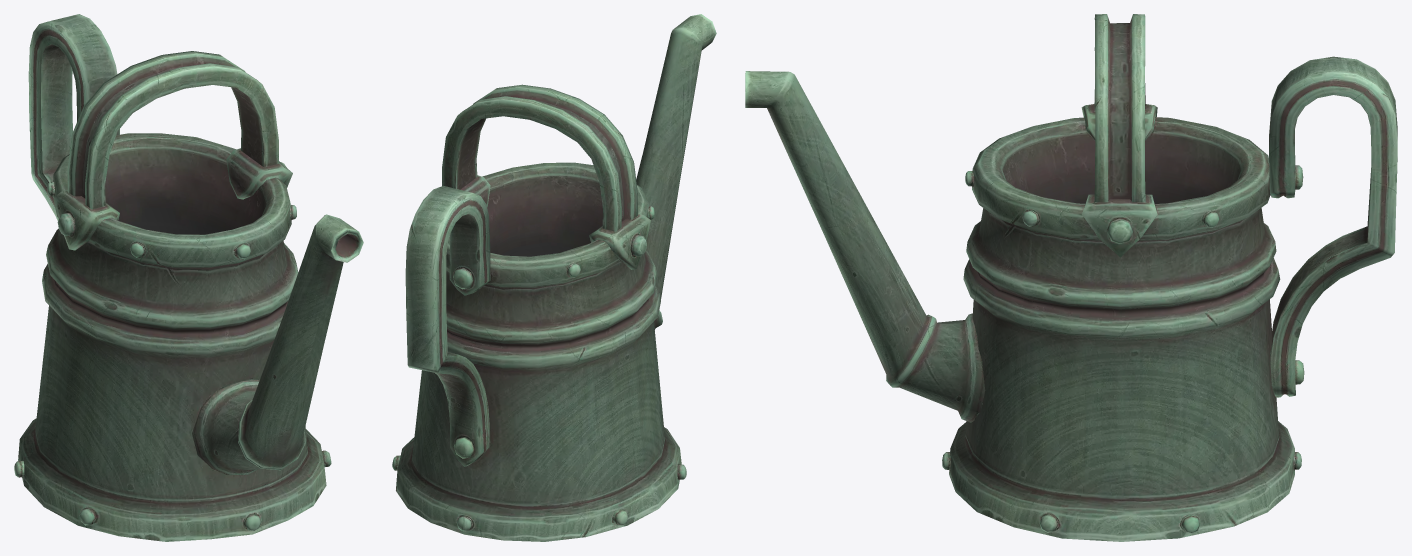
The picture shows the model from 3 angles, left to right: view 1: azimuth 30°, elevation 25°; view 2: azimuth 150°, elevation 25°; view 3: azimuth 270°, elevation 25°; orthographic projection. The views are drawn at different scales.
Parts seen in each view (by area): view 1: SM_WateringCan_Adamant_2H_01_LOD0; view 2: SM_WateringCan_Adamant_2H_01_LOD0; view 3: SM_WateringCan_Adamant_2H_01_LOD0.
Part boxes in pixels (x1,y1,x2,y2): SM_WateringCan_Adamant_2H_01_LOD0: (14,14,363,541); SM_WateringCan_Adamant_2H_01_LOD0: (392,14,716,541); SM_WateringCan_Adamant_2H_01_LOD0: (745,14,1397,541).
Size of the model in its own units: 0.3224 by 0.4981 by 0.6583.
1 material, 1 textured.
